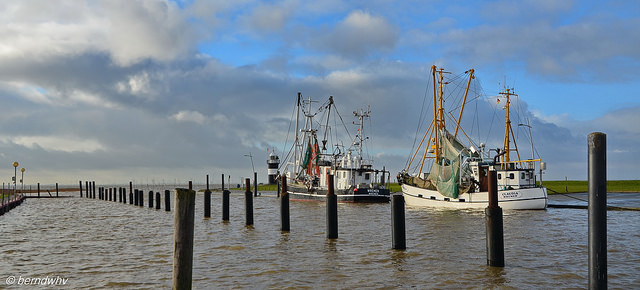fishing_boat: (400, 65, 548, 208), (285, 92, 392, 201)
